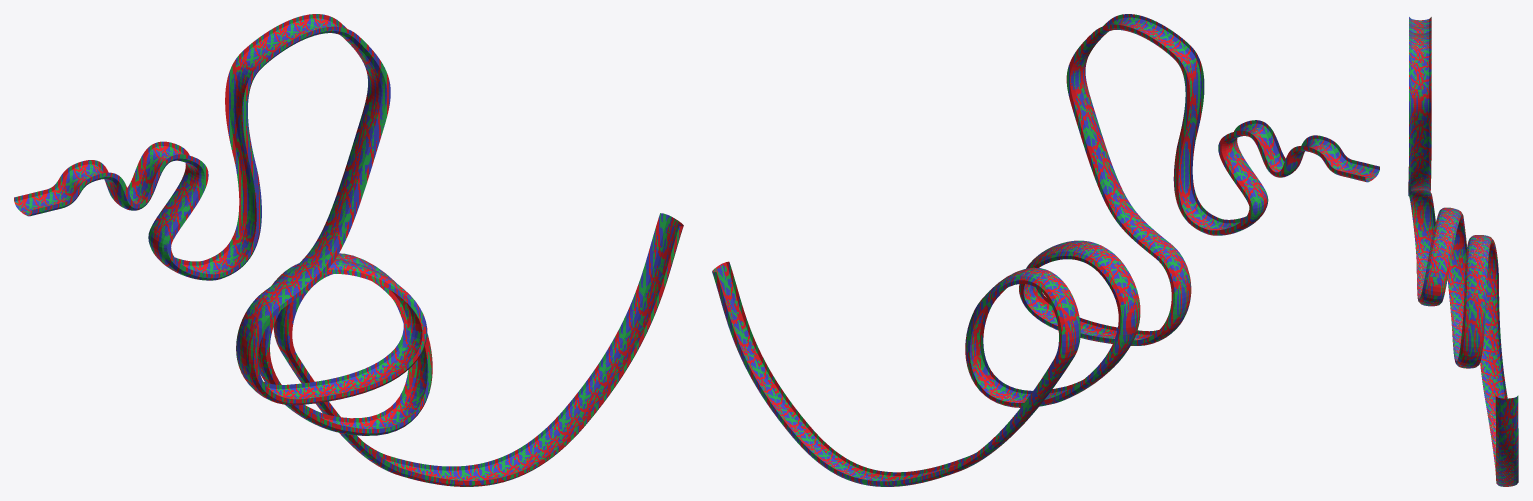
Rendered from LoopTest.obj.
3 renders of one model, left to right at view 1: azimuth 30°, elevation 25°; view 2: azimuth 150°, elevation 25°; view 3: azimuth 270°, elevation 25°, orthographic. The views are drawn at different scales.
Bounding box in the file's own units: 5444 × 4083 × 1116.
Materials: 1 (1 with a texture image).
